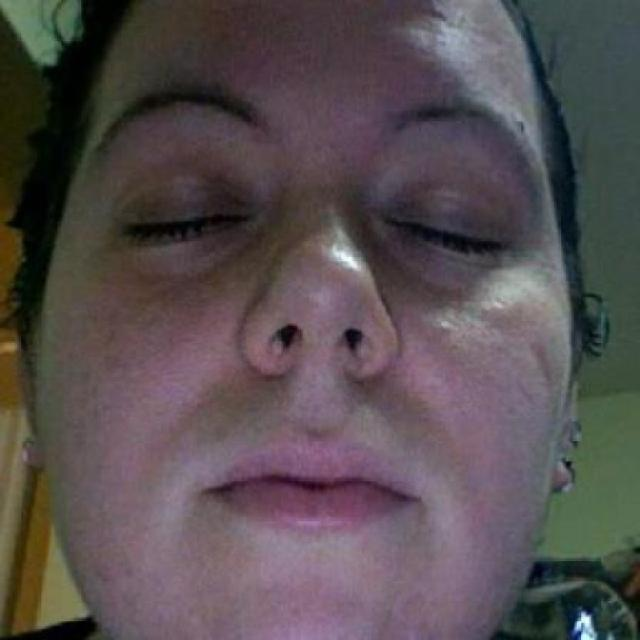drowsy: (378, 204, 504, 278), (131, 192, 258, 255)
